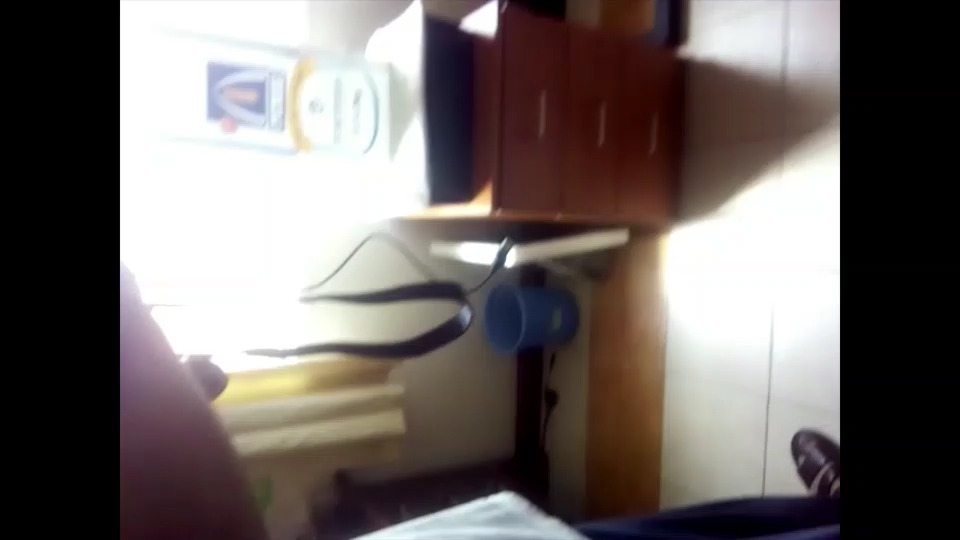wheat_flour_blue_label: (160, 59, 392, 174)
